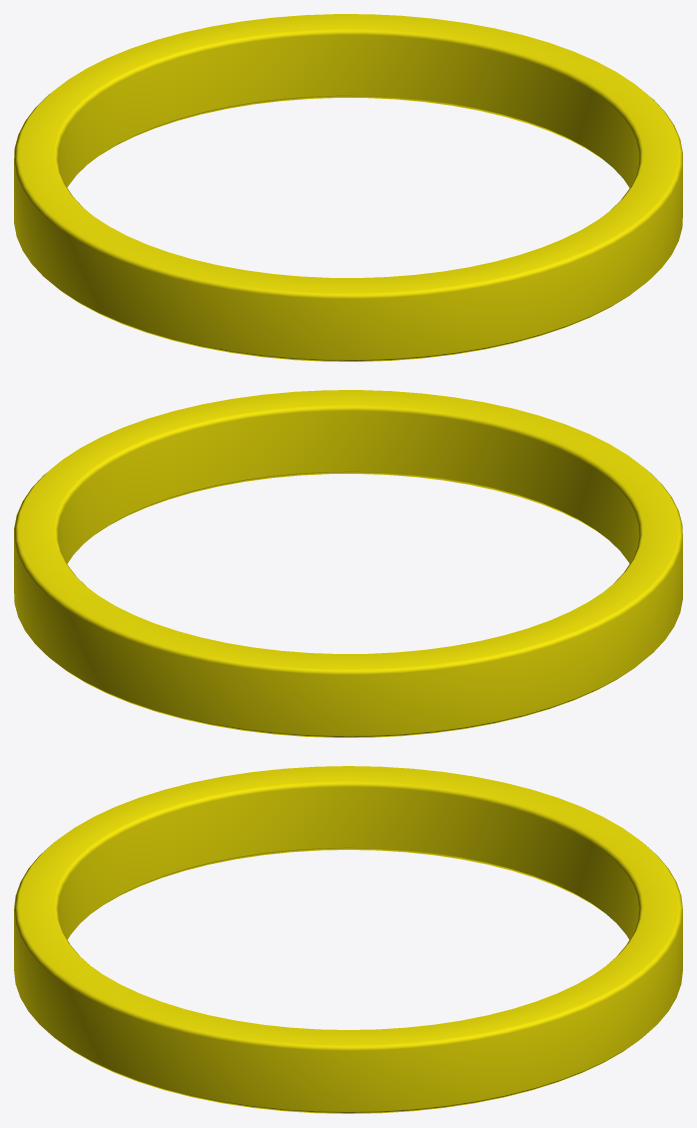
3 views of the same model, one above another, from view 1: azimuth 30°, elevation 25°; view 2: azimuth 150°, elevation 25°; view 3: azimuth 270°, elevation 25° (orthographic).
Visible parts, largest first — view 1: seal_body; view 2: seal_body; view 3: seal_body.
Boxes of the visible parts, x1,y1,x2,y2 form: seal_body: (14, 14, 682, 361); seal_body: (14, 390, 682, 737); seal_body: (14, 766, 682, 1113).
Size of the model in its own units: 0.0922 by 0.0105 by 0.0922.
